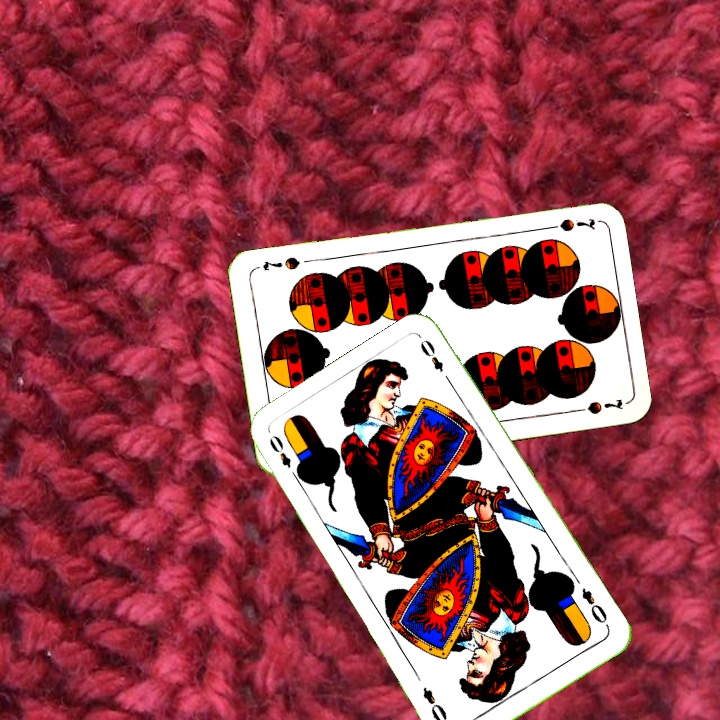EO: (265, 431, 303, 484), (577, 583, 610, 627)
S7: (539, 214, 598, 235)
